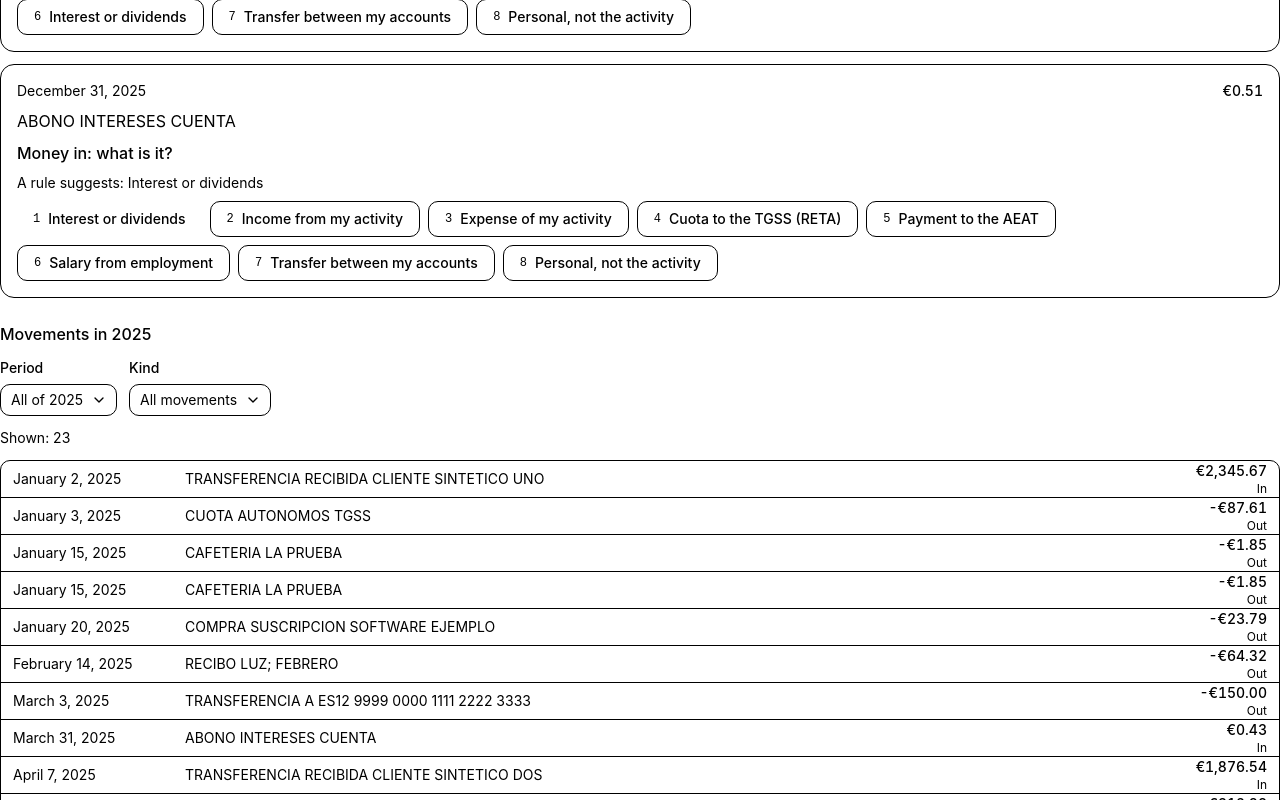
it: TransactionsPage › narrows to money in or money out without asking the API again
The image size is (1280, 800).
(page scrolled)
Select "Money in" in the dropdown labelled "Kind" at (200, 400), box [129,384,271,416]
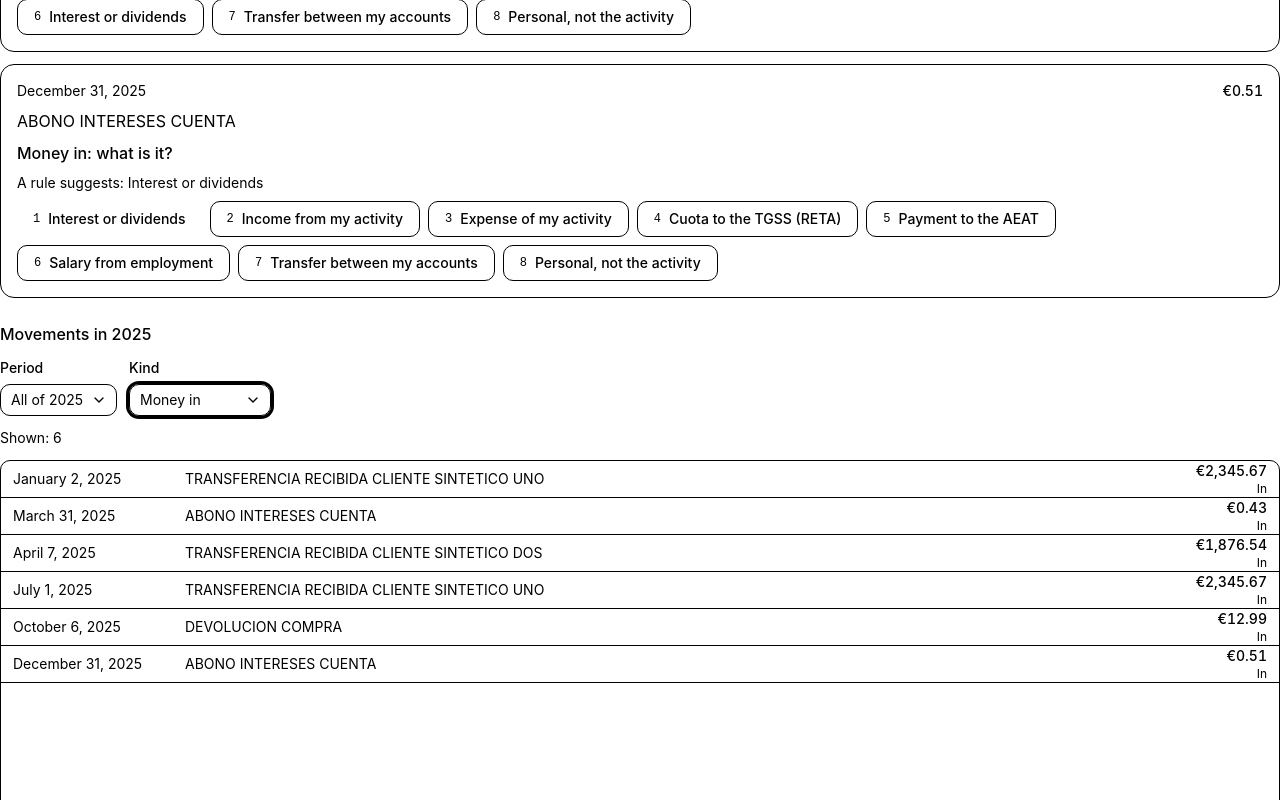
Check: the list item that starts with "July 1, 2025" shows "IN", box [1257,592,1267,607]
Check: the list item "October 6, 2025 DEVOLUCION COMPRA €12.99 In" is shown, box [1,609,1279,646]
Check: the list item "December 31, 2025 ABONO INTERESES CUENTA €0.51 In" is shown, box [1,646,1279,683]
Select "Money out" in the dropdown labelled "Kind" at (200, 400), box [129,384,271,416]
(page scrolled)
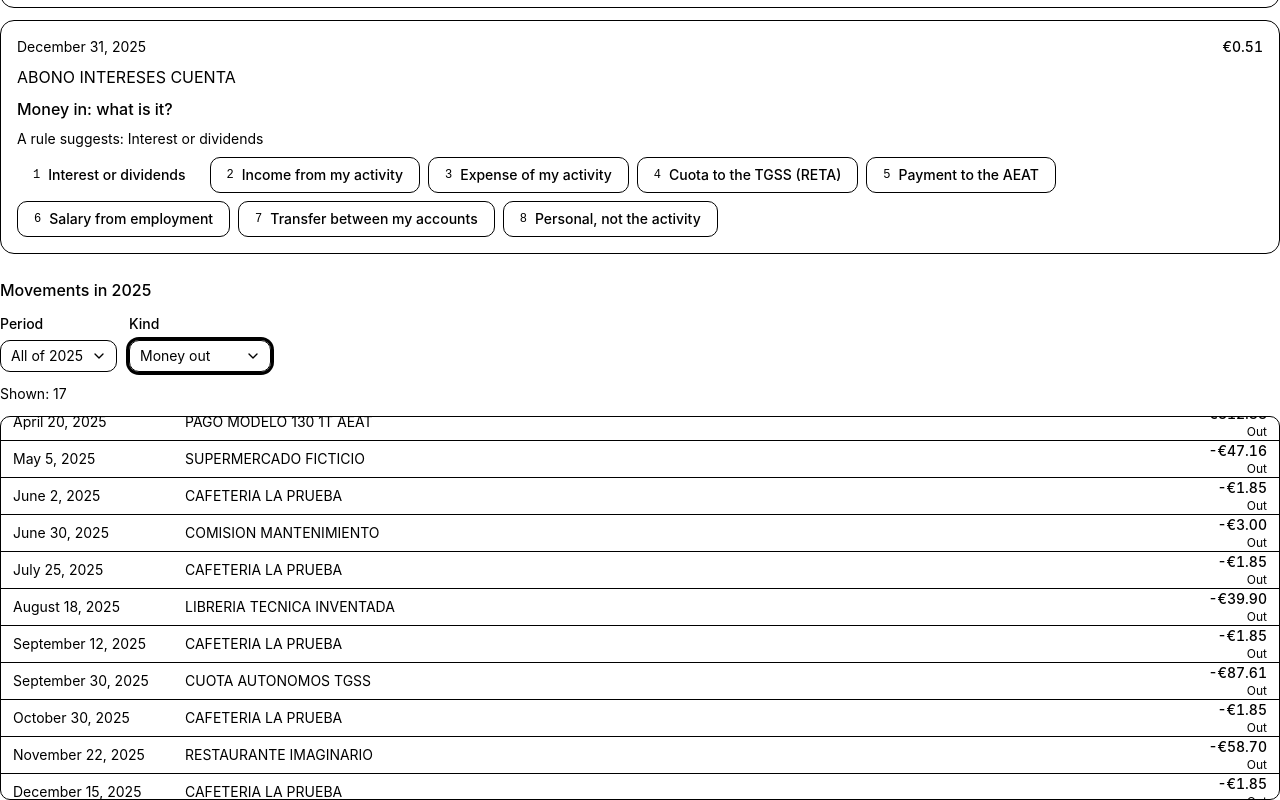
Check: the list item "April 20, 2025 PAGO MODELO 130 1T AEAT -€312.88 Out" is shown, box [1,416,1279,441]
Check: the list item "May 5, 2025 SUPERMERCADO FICTICIO -€47.16 Out" is shown, box [1,441,1279,478]
Check: the list item "June 2, 2025 CAFETERIA LA PRUEBA -€1.85 Out" is shown, box [1,478,1279,515]
